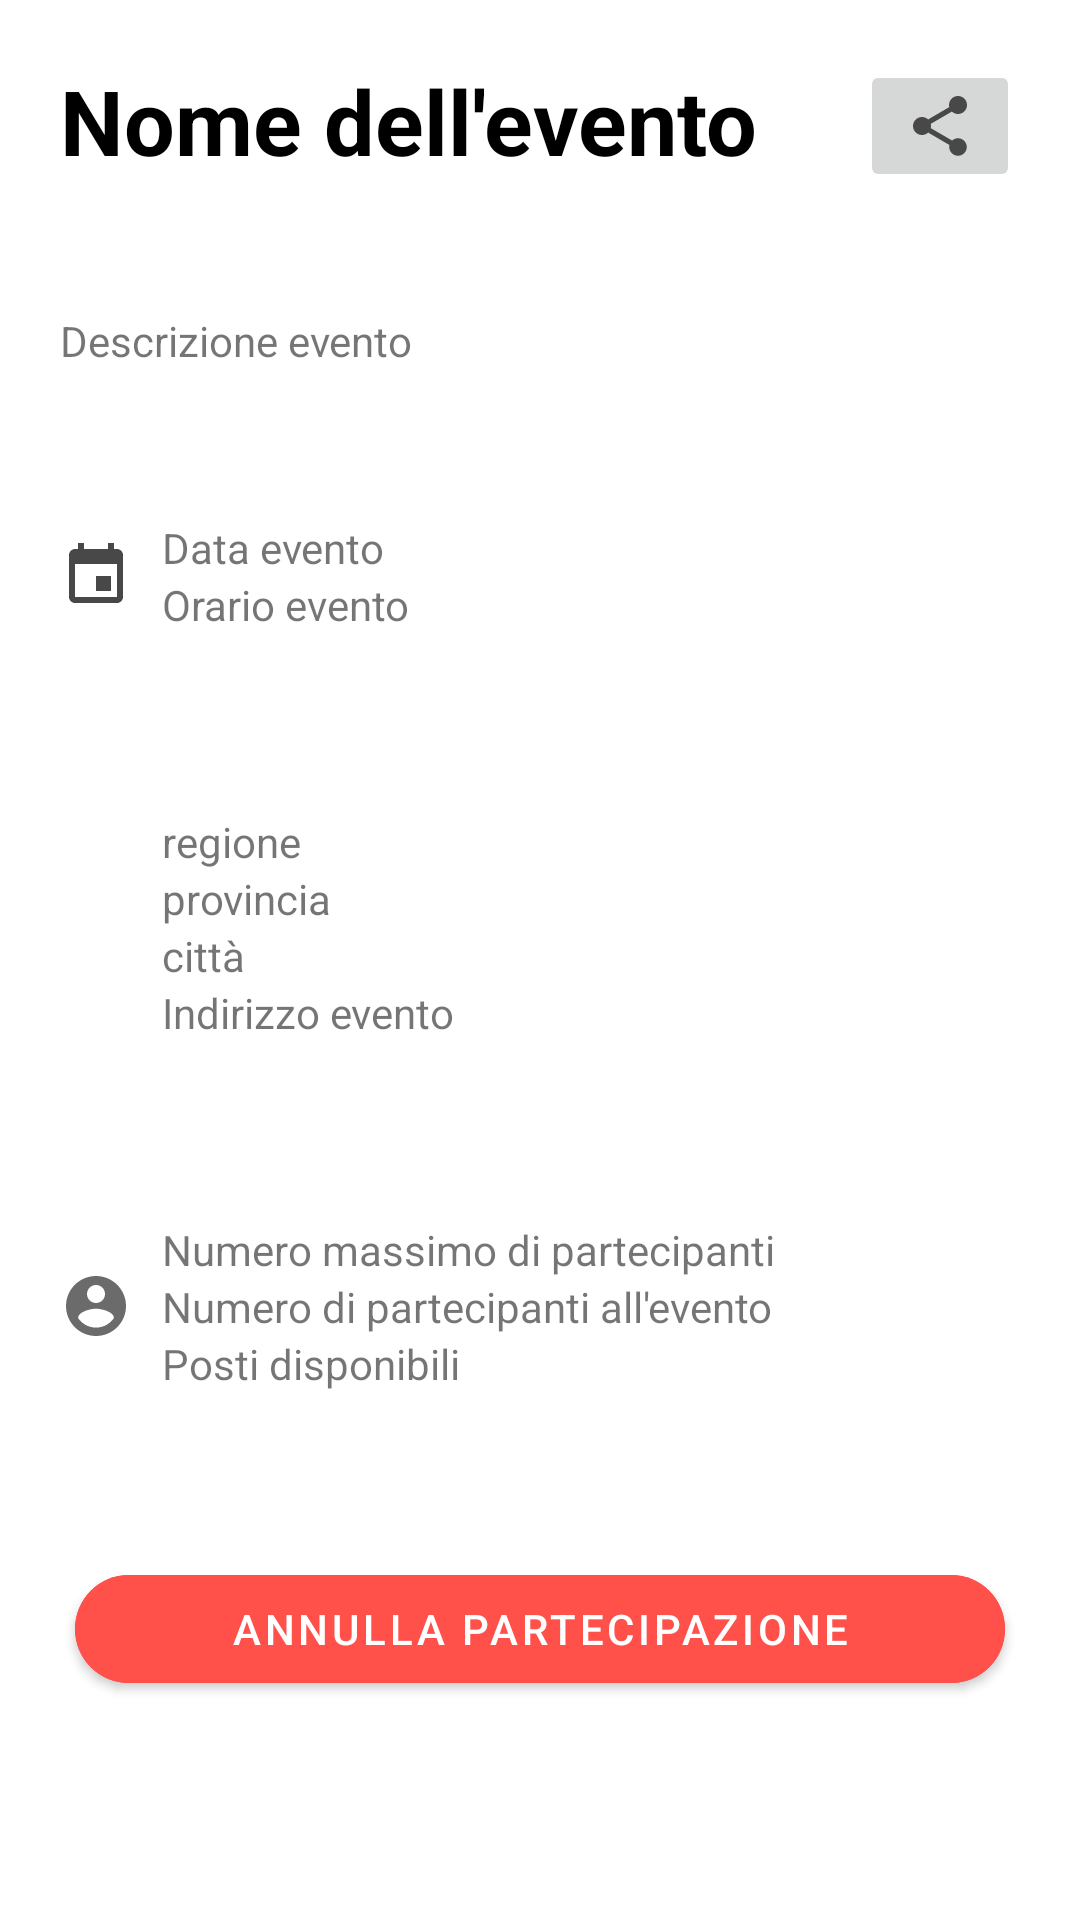

Named icons in this screenshot (1080 × 1920) and their bounding boxes, (x1, y1, x2, y2):
account circle: (66, 1276, 126, 1336)
share: (872, 78, 1008, 174)
